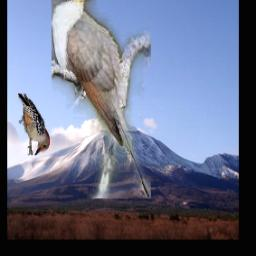Cuckoo: (52, 0, 151, 199)
Woodpecker: (19, 94, 51, 155)
